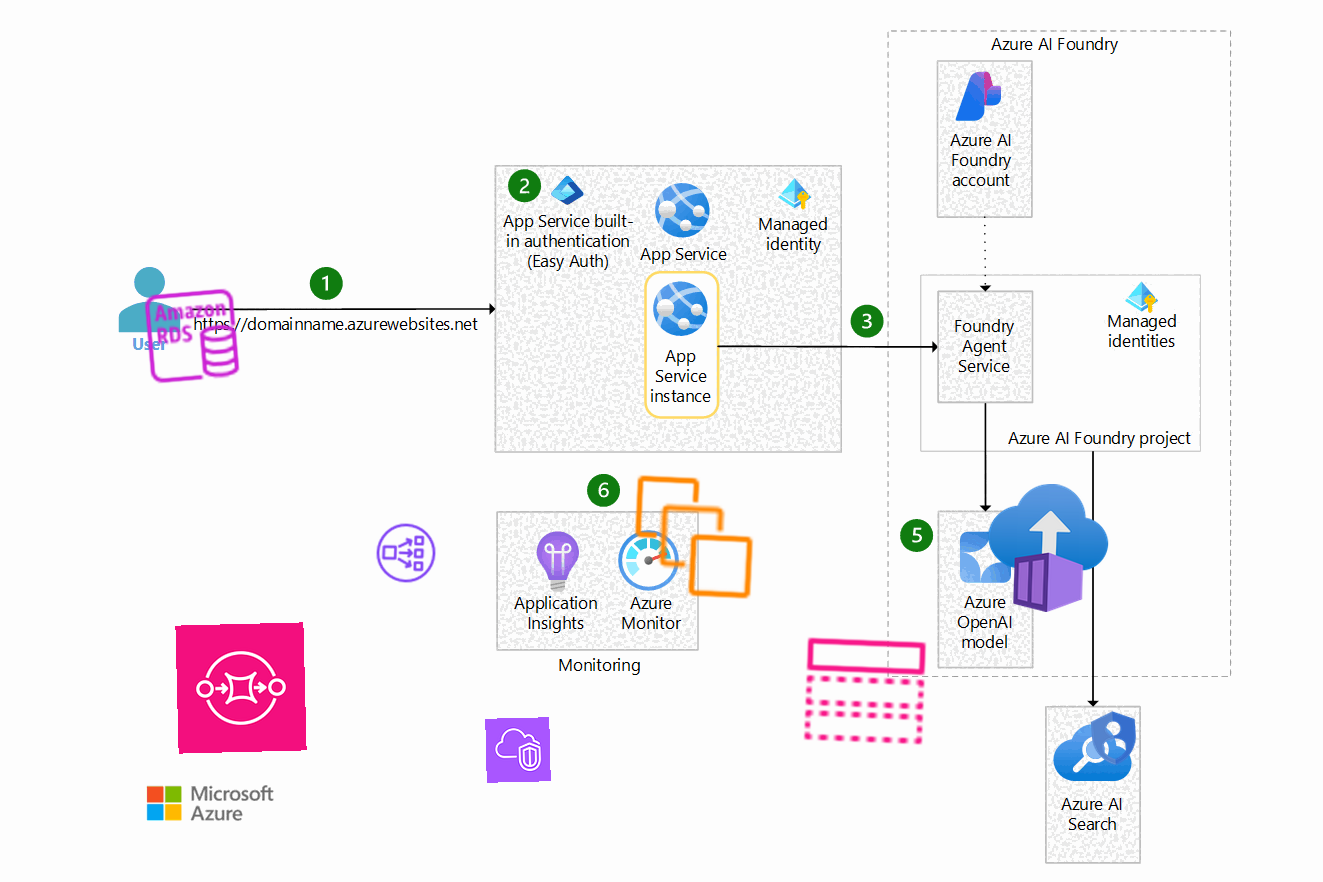aws_amazon_simple_queue_service: (175, 622, 307, 754)
aws_amazon_virtual_private_cloud: (485, 717, 551, 783)
aws_aurora_amazon_rds_instance: (140, 284, 244, 388)
aws_ec2_instances: (627, 470, 761, 604)
aws_elastic_load_balancing_network_load_balancer: (373, 520, 439, 586)
aws_simple_notification_service_topic: (798, 624, 932, 758)
azure_container_instances: (981, 481, 1115, 615)
gcp_identity_and_access_management: (1079, 703, 1149, 773)
